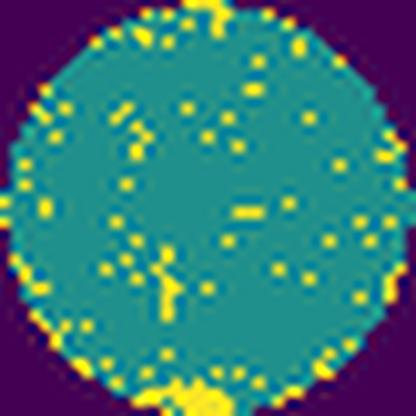Edge-Loc: (132, 368, 240, 415)
